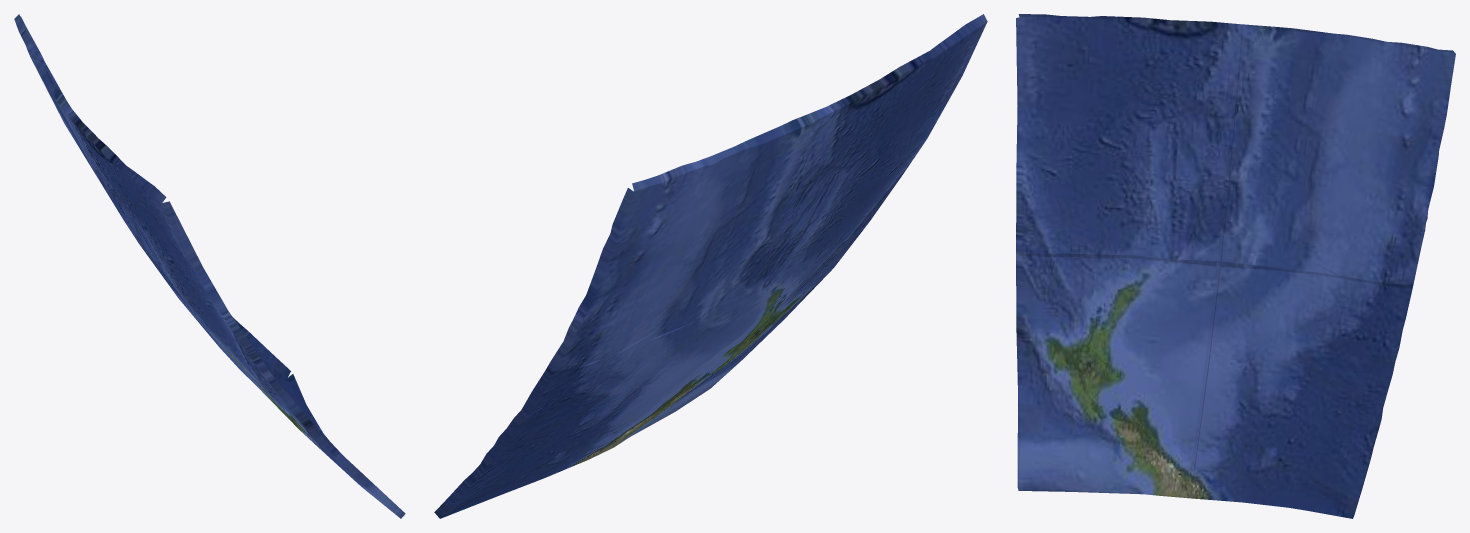
3 renders of one model, left to right at view 1: azimuth 30°, elevation 25°; view 2: azimuth 150°, elevation 25°; view 3: azimuth 270°, elevation 25°, orthographic. The views are drawn at different scales.
Size of the model in its own units: 1757798 by 2102754 by 2285796.
Materials: 1 (1 with a texture image).
